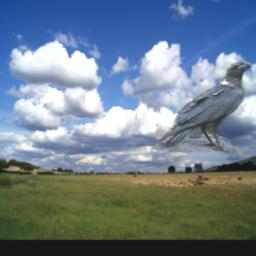Crow: (157, 60, 254, 153)
